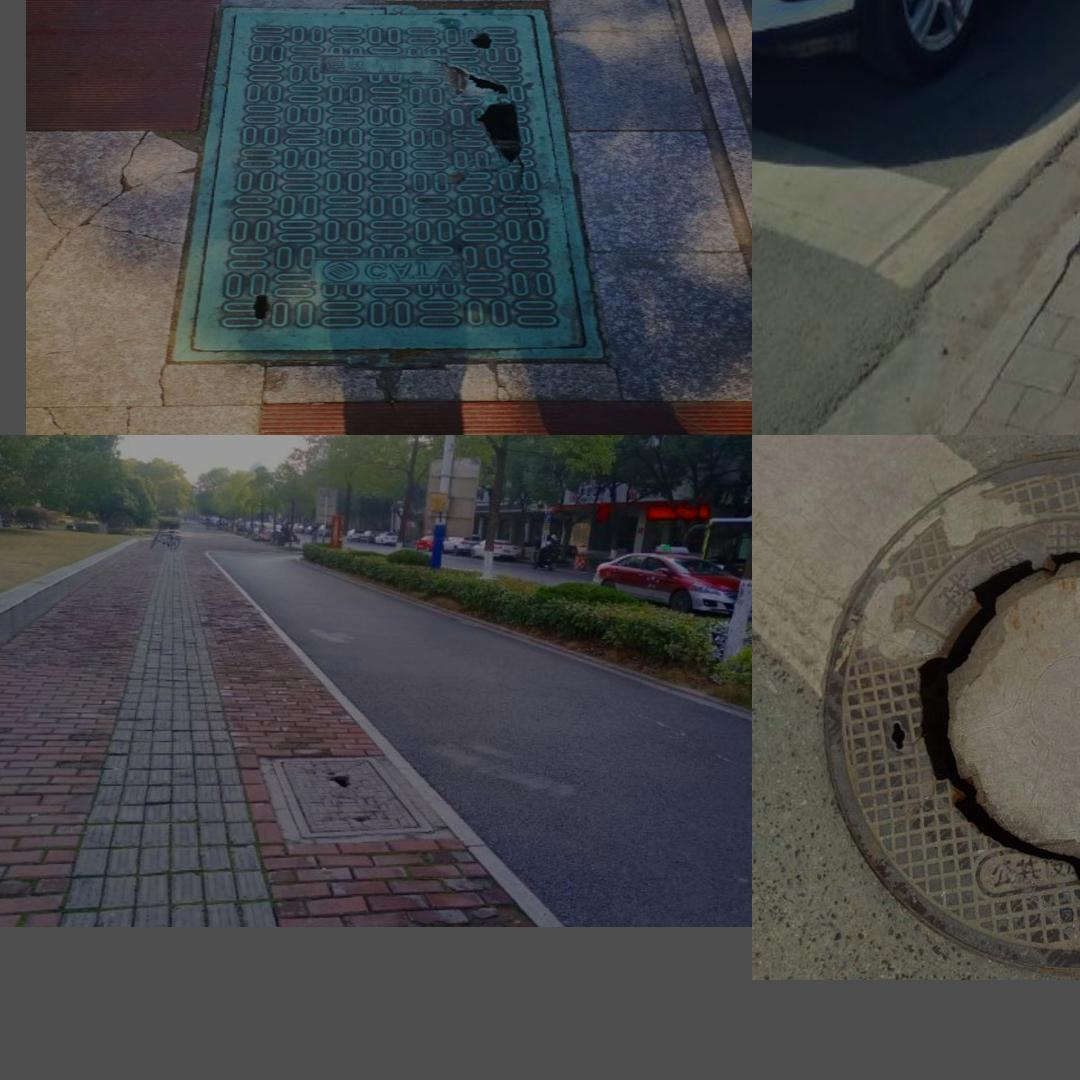broke: (174, 5, 606, 361), (810, 443, 1080, 974), (269, 754, 434, 838)
